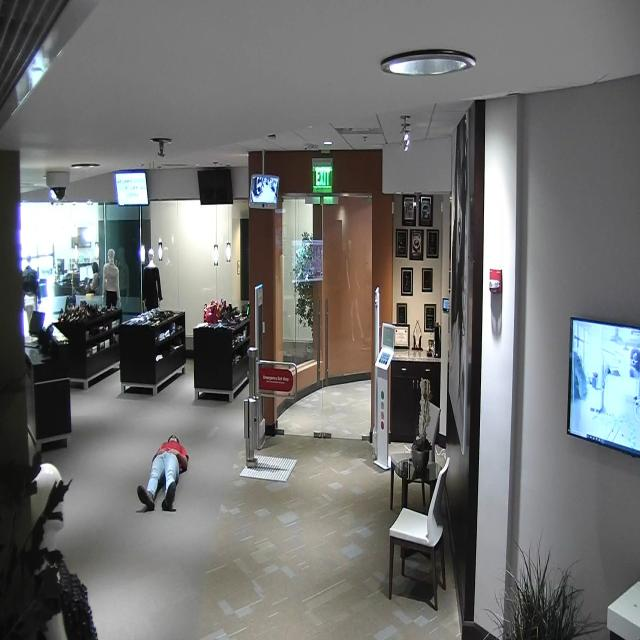fall: (134, 432, 192, 516)
